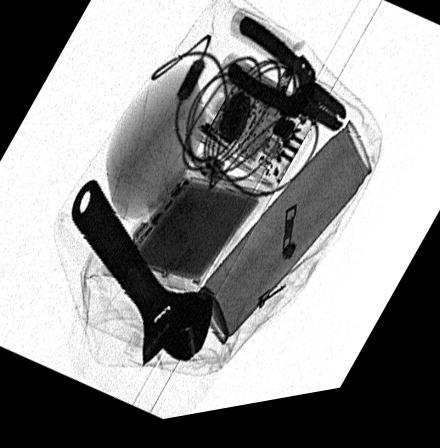Pliers: (226, 19, 348, 144)
Powerbank: (123, 178, 264, 293)
Wrench: (72, 182, 216, 371)
